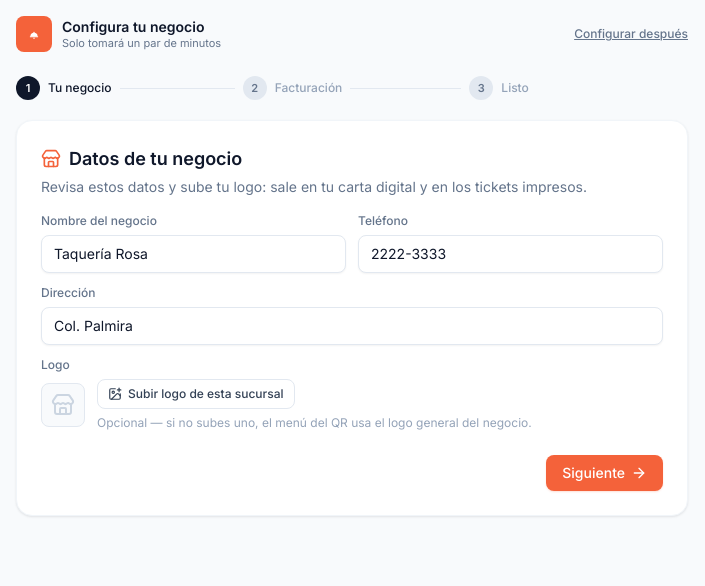
Test: AsistenteInicial (configuración al registrar el negocio) › no deja seguir con el nombre vacío
Clear the field labelled "Nombre del negocio" at (194, 254), box [41,235,346,273]
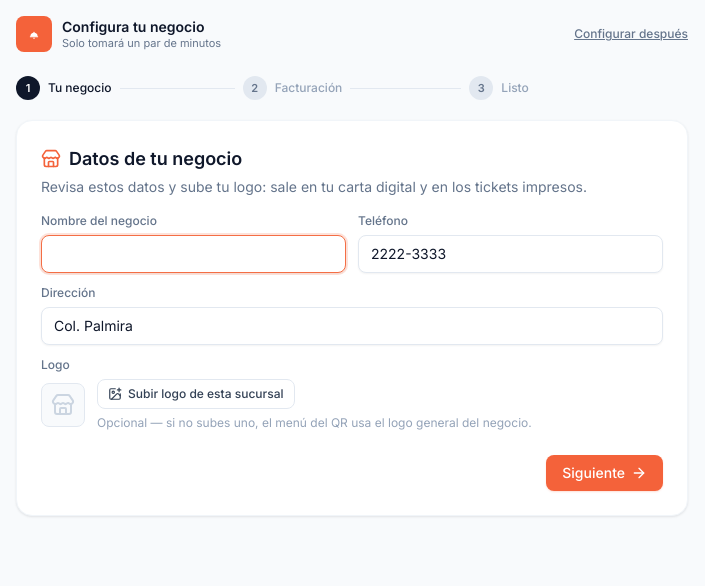
Click the button "Siguiente" at (605, 473), box [546,455,663,491]
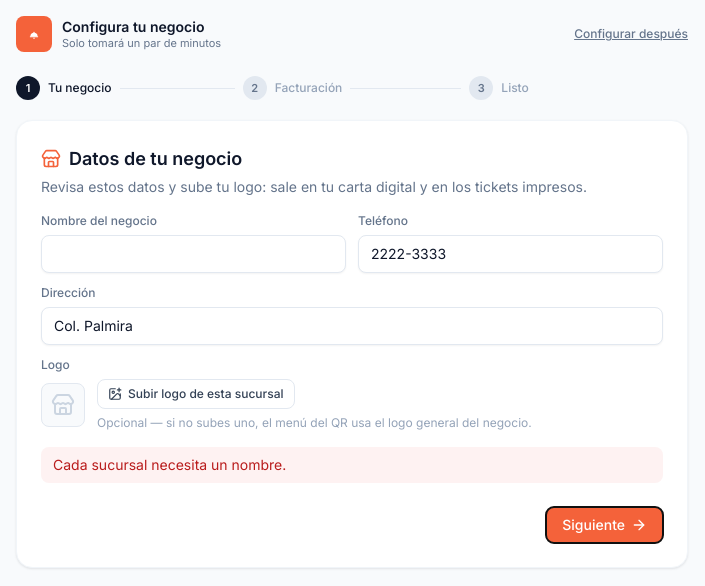
Expected: the heading "Datos de tu negocio" is shown, [41,148,242,169]
Result: the text "Cada sucursal necesita un nombre." is shown at [41,447,663,483]
